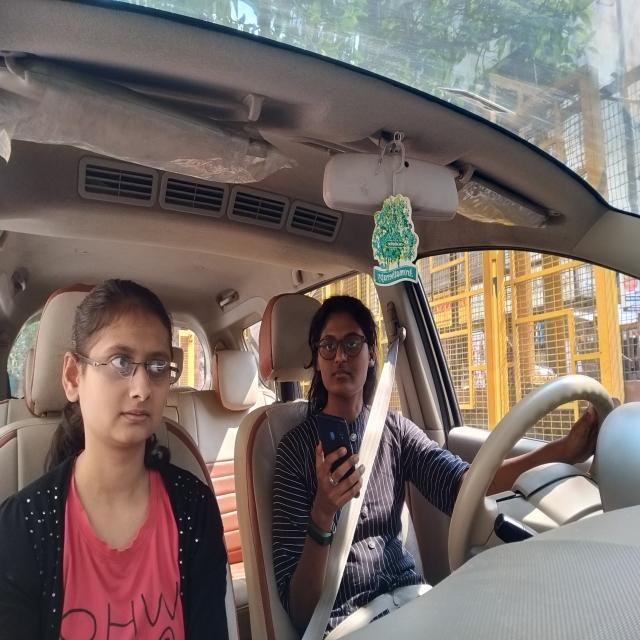mobile: (307, 414, 361, 505)
person: (63, 283, 189, 476), (298, 290, 387, 409)
